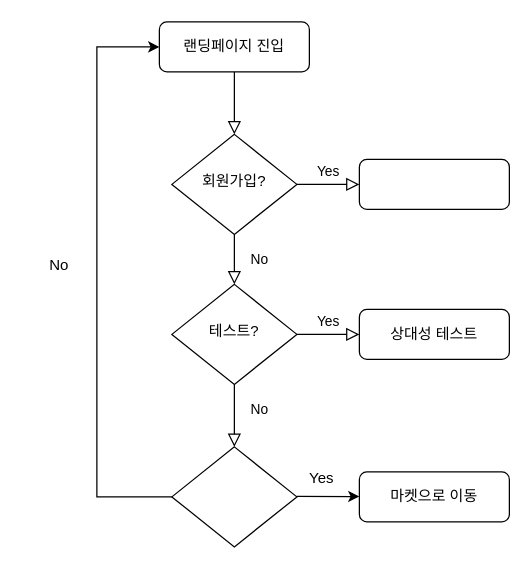
Some shapes in this 531 by 569 pixel diagram are drawn without their labels. The box of each missing label's shape, as (x1, y1, x2, y2) in pixels:
마켓?: (171, 446, 297, 547)
회원가입 페이지: (358, 158, 509, 209)
